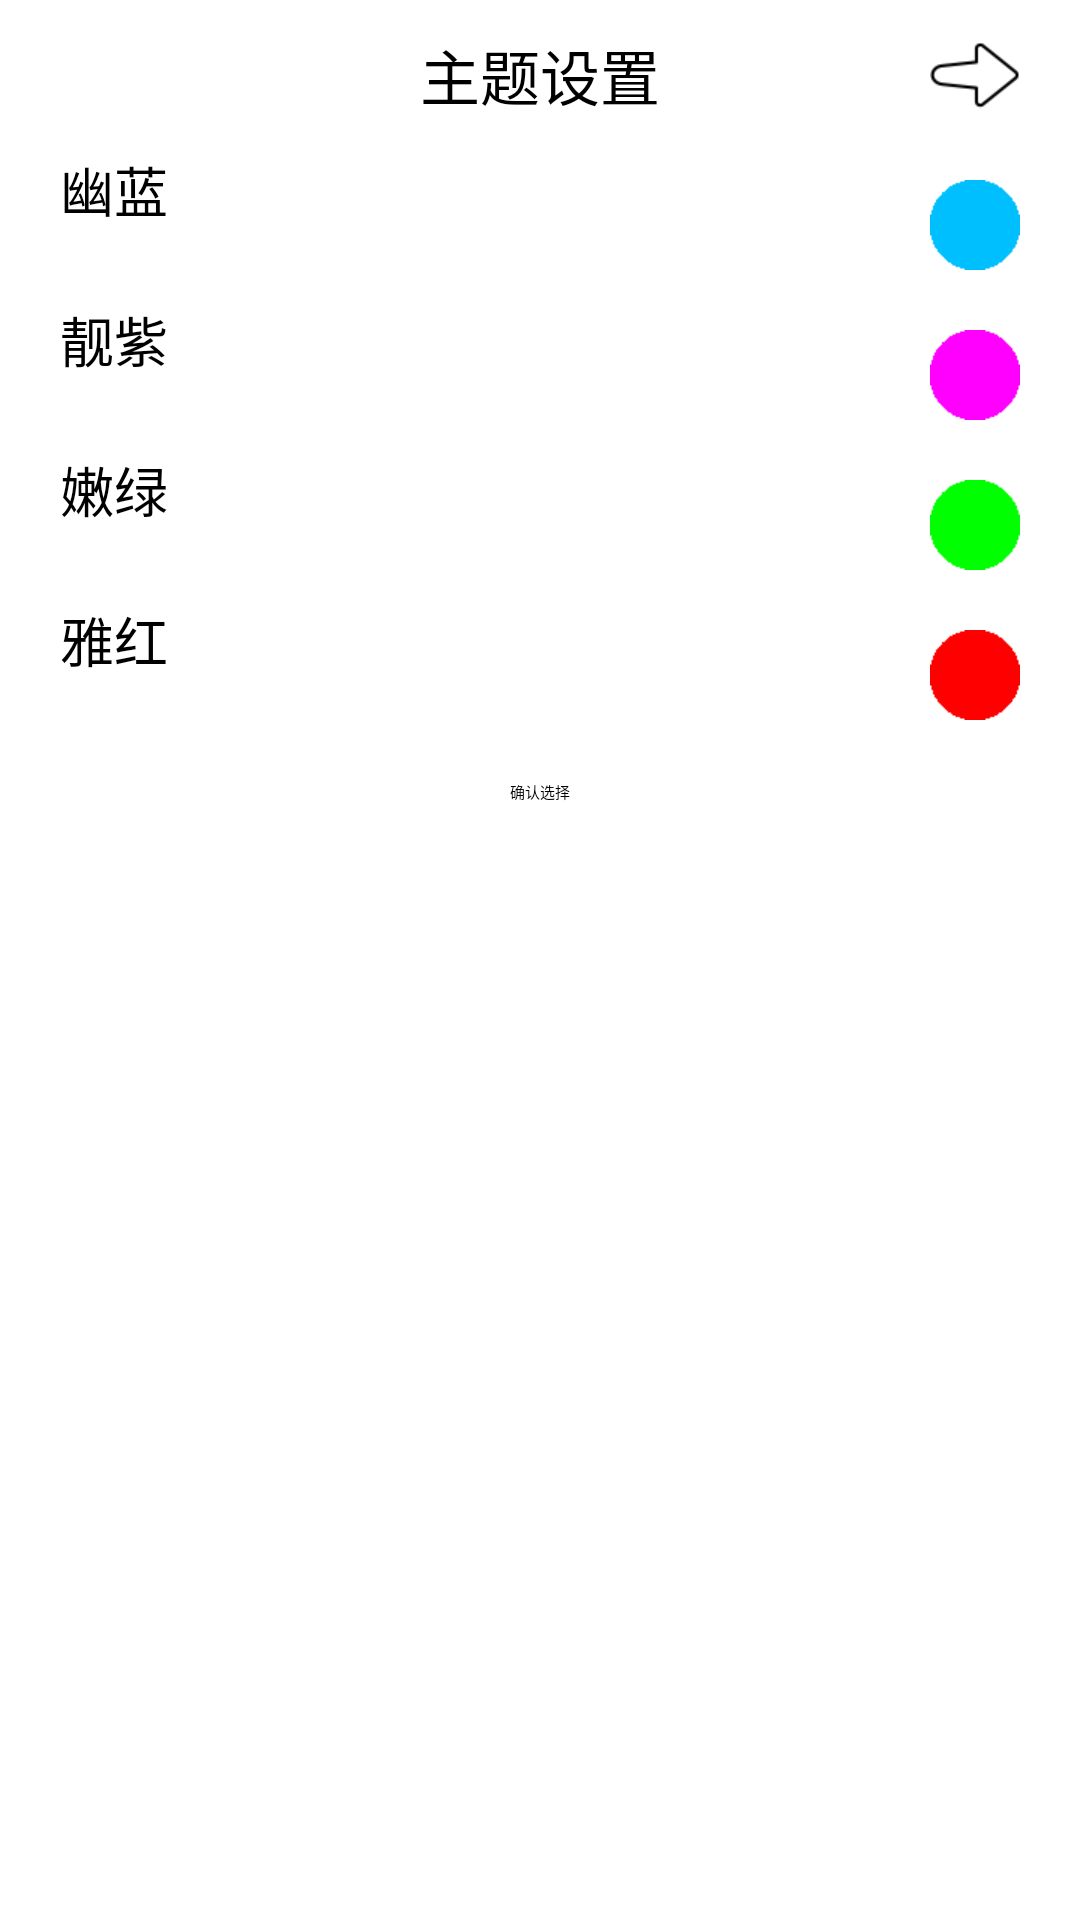

Named icons in this screenshot (1080 × 1920) and their bounding boxes, (left=x1, top=y1, right=x2, bottom=y2):
theme setting exit: (left=930, top=43, right=1019, bottom=108)
